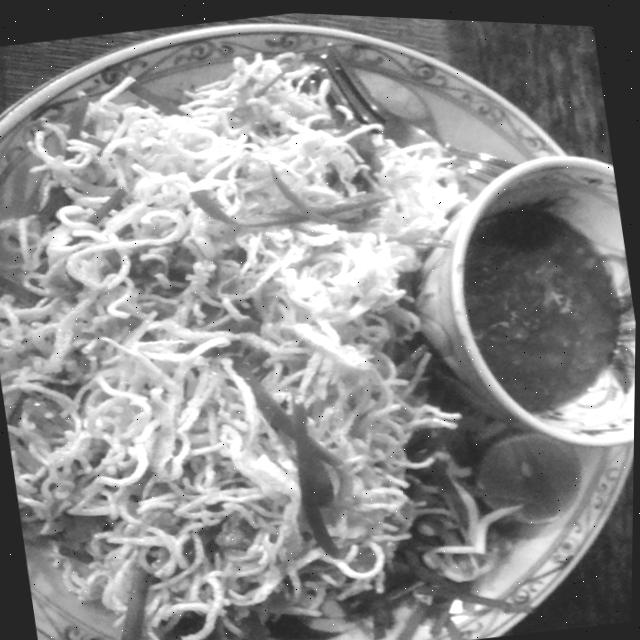面条主食: (0, 3, 570, 640)
